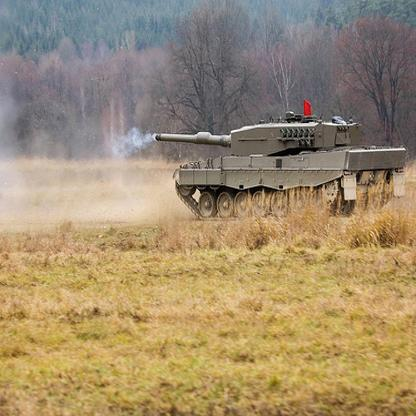Tank: (139, 98, 409, 224)
